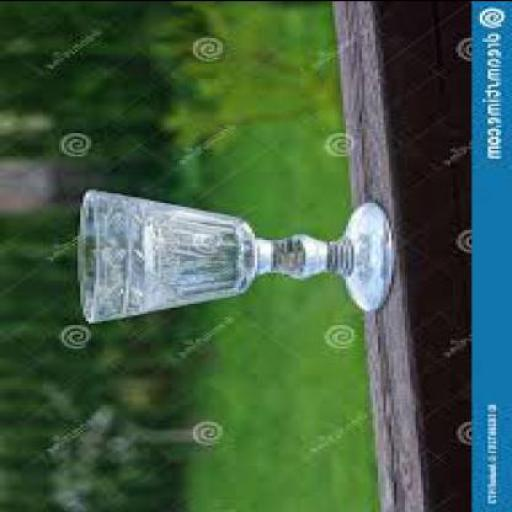glass: (70, 187, 388, 318)
